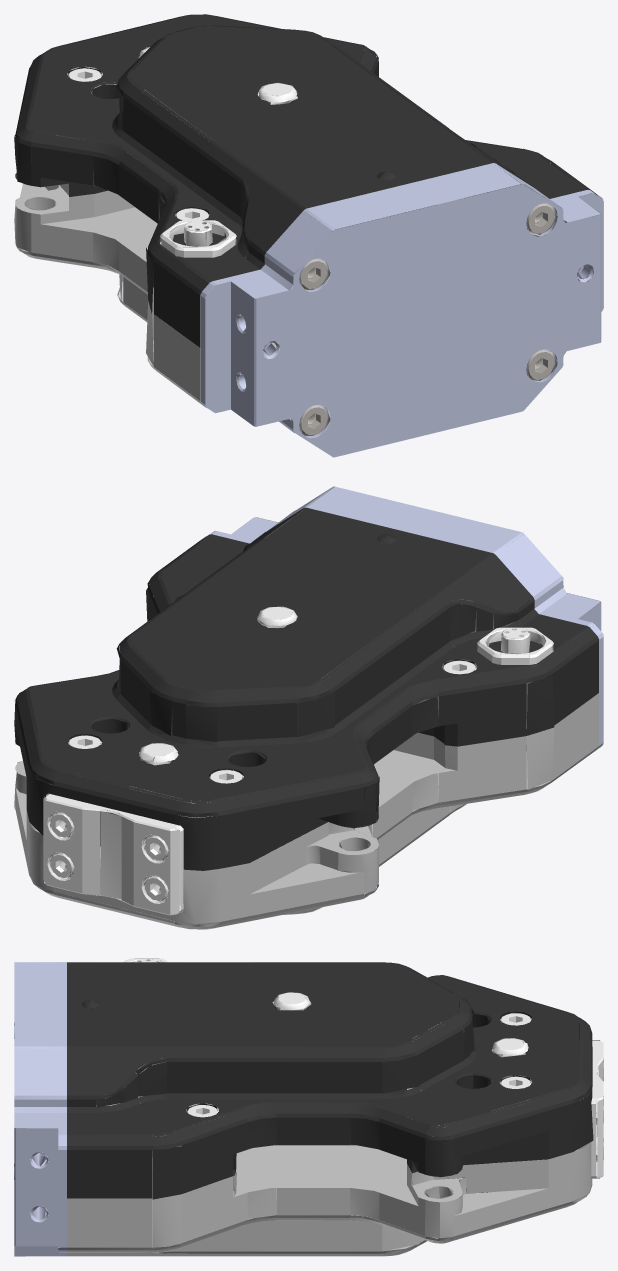
File: AG-160-95-body.gltf
3 views of the same model, one above another, from view 1: azimuth 30°, elevation 25°; view 2: azimuth 150°, elevation 25°; view 3: azimuth 270°, elevation 25° (orthographic). The views are drawn at different scales.
Visible parts, largest first — view 1: A.STEP022; view 2: A.STEP022; view 3: A.STEP022.
Part boxes in pixels (<box>): A.STEP022: <box>14,14,603,457</box>; A.STEP022: <box>14,486,603,929</box>; A.STEP022: <box>14,958,603,1256</box>.
Bounding box in the file's own units: 0.0939 × 0.0525 × 0.1296.
